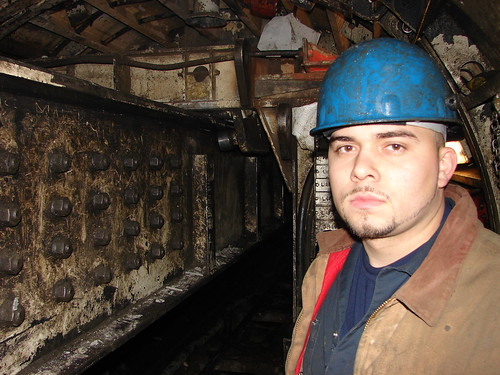person hardhat: (276, 35, 497, 375)
